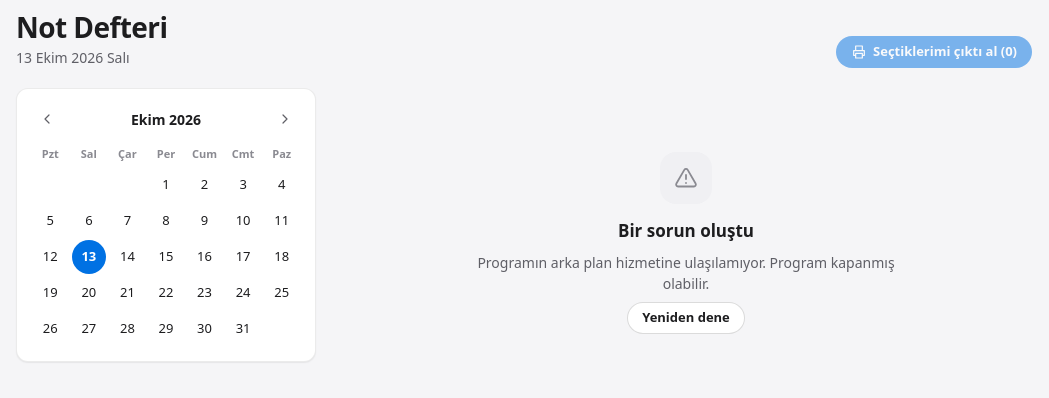
Test: Notebook › offers retry when the day cannot be loaded
Expected: the text "Bir sorun oluştu" is shown, [618,218,754,244]
Click the button "Yeniden dene": (686, 318) [627,302,745,334]
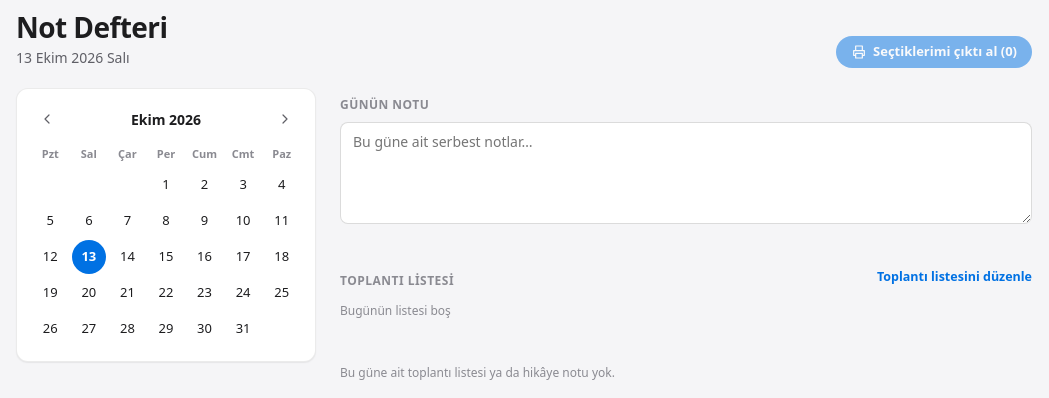
Expected: the text "Bu güne ait toplantı listesi ya da hikâye notu yok." is shown, [340,364,615,381]
